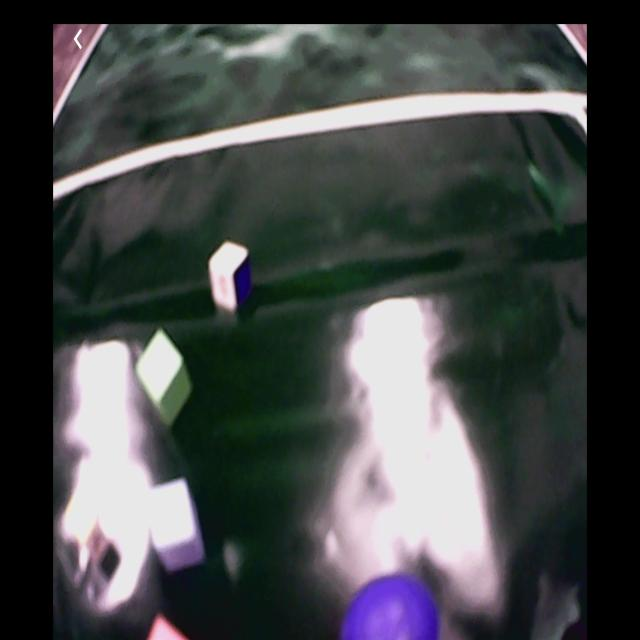ball: (342, 572, 434, 640)
